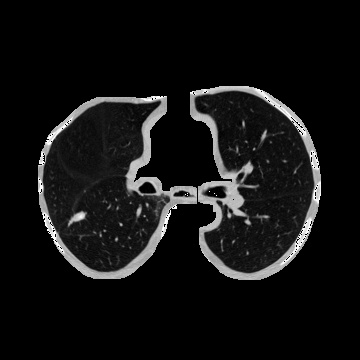PN: (73, 210, 85, 222)
